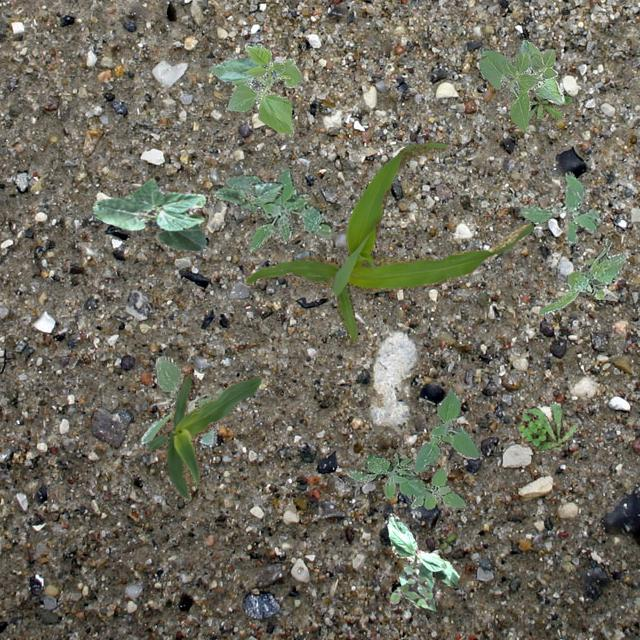crop: (244, 140, 532, 340), (148, 374, 260, 501), (90, 178, 206, 252), (208, 44, 300, 136), (478, 38, 562, 132), (386, 512, 458, 610), (214, 180, 282, 210)
weed: (344, 388, 480, 510), (220, 165, 330, 252), (140, 354, 220, 446), (538, 238, 624, 314), (518, 170, 602, 242), (516, 404, 578, 449), (526, 76, 570, 121), (388, 564, 432, 608)
